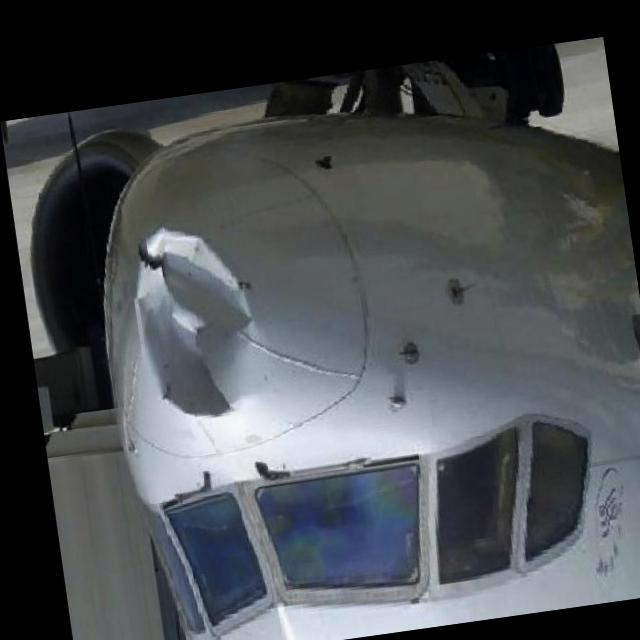dent: (115, 210, 274, 432)
